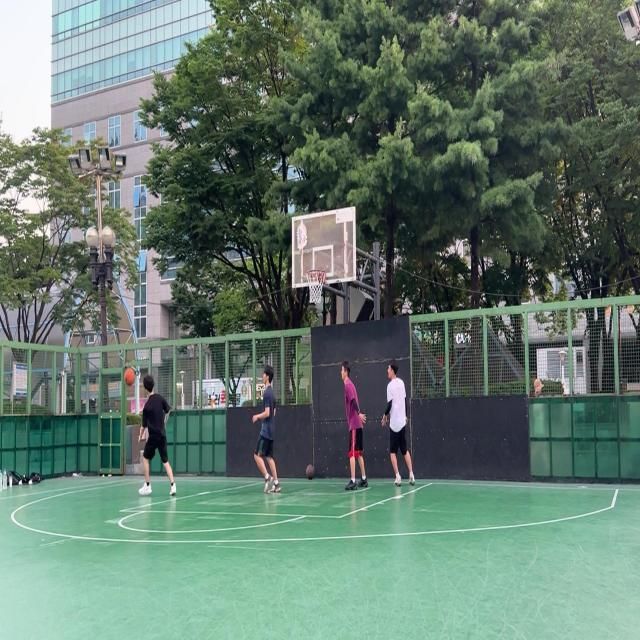basketball: (124, 368, 134, 386)
hoop: (306, 270, 326, 302)
